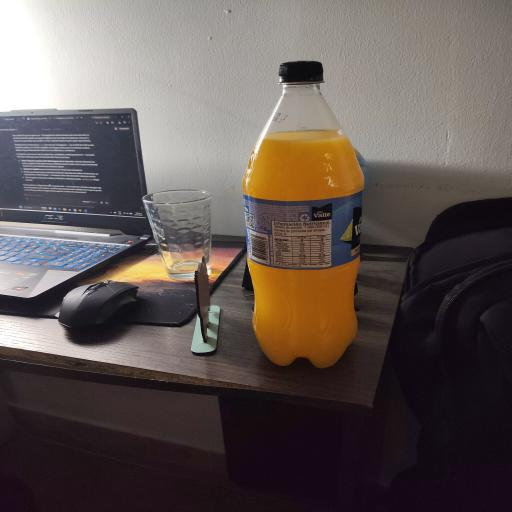Jugo del valle: (243, 62, 363, 367)
